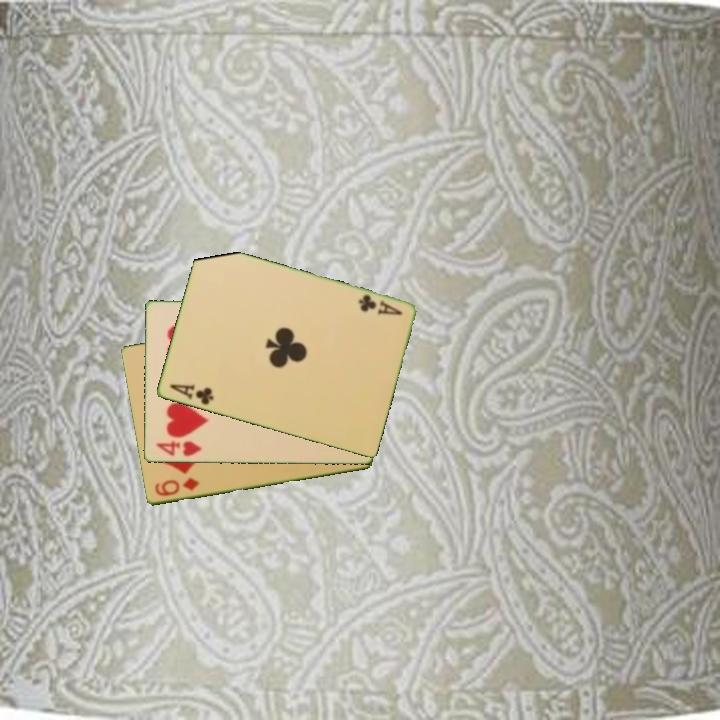4h: (152, 437, 204, 459)
6d: (151, 474, 202, 499)
Ac: (165, 381, 216, 408), (355, 291, 405, 318)
